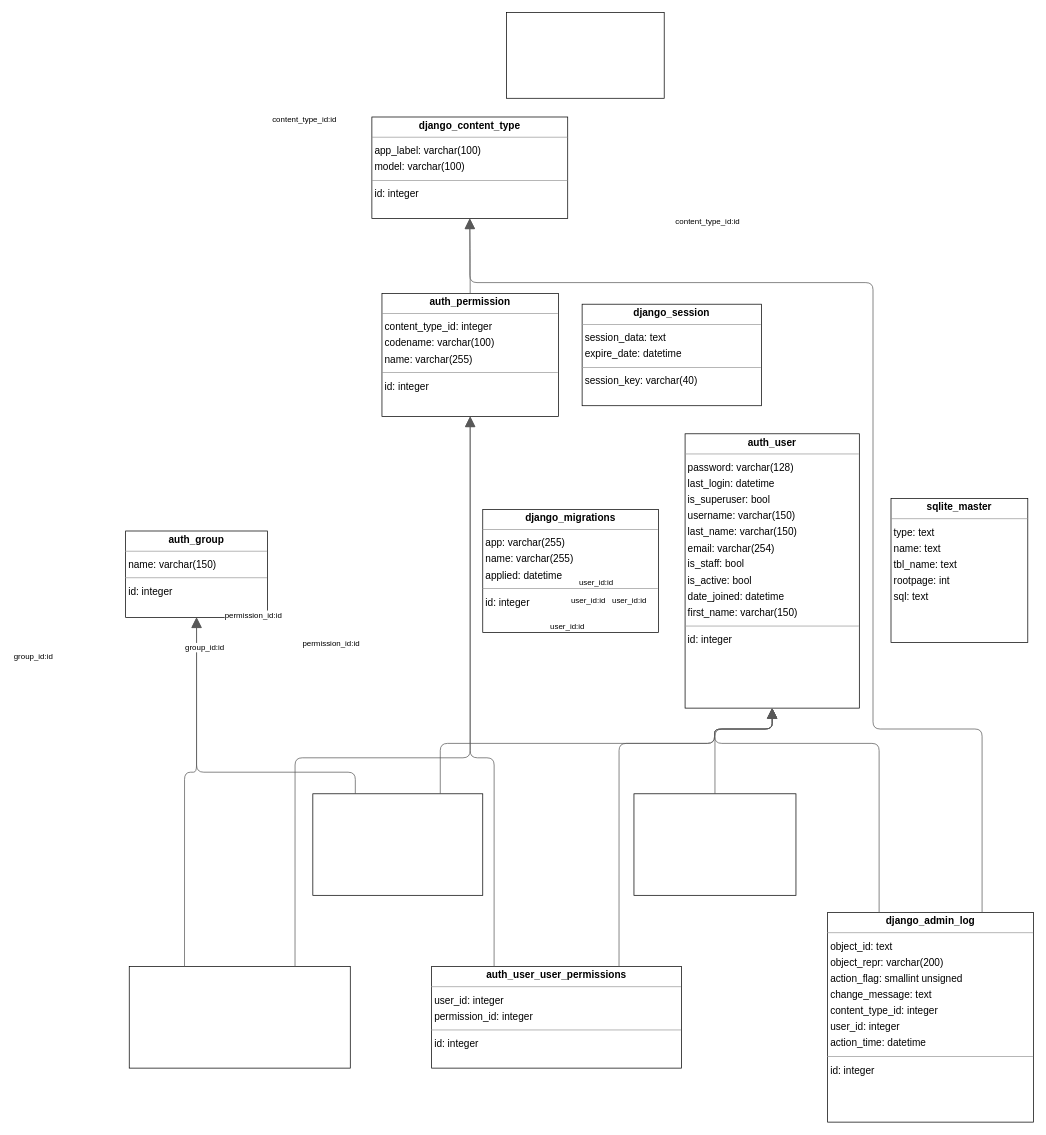
Image size: 1046x1135. Some labels were removed from this diagram. Each missing label, with the centre of its shape:
"auth_group_permissions group_id: integer permission_id: integer id: integer" belongs at point (239, 1017).
"auth_user_groups user_id: integer group_id: integer id: integer" belongs at point (397, 844).
"authtoken_token created: datetime user_id: integer key: varchar(40)" belongs at point (714, 844).
"sqlite_sequence name: unknown seq: unknown" belongs at point (585, 55).
